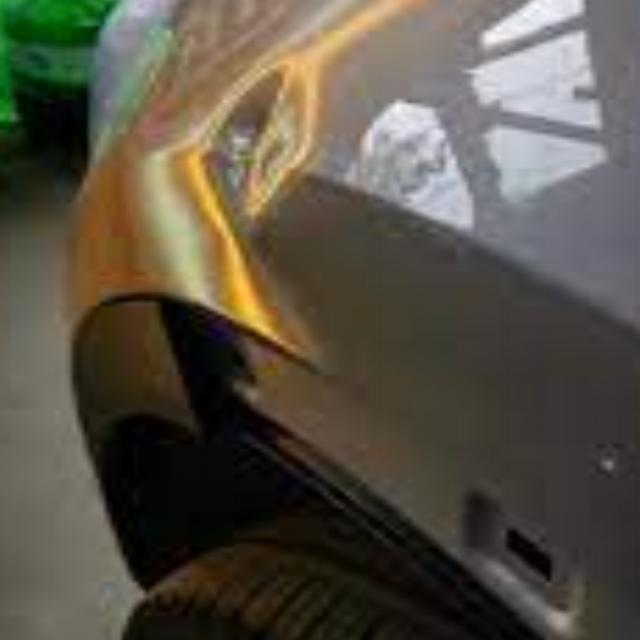dents: (206, 68, 367, 230)
